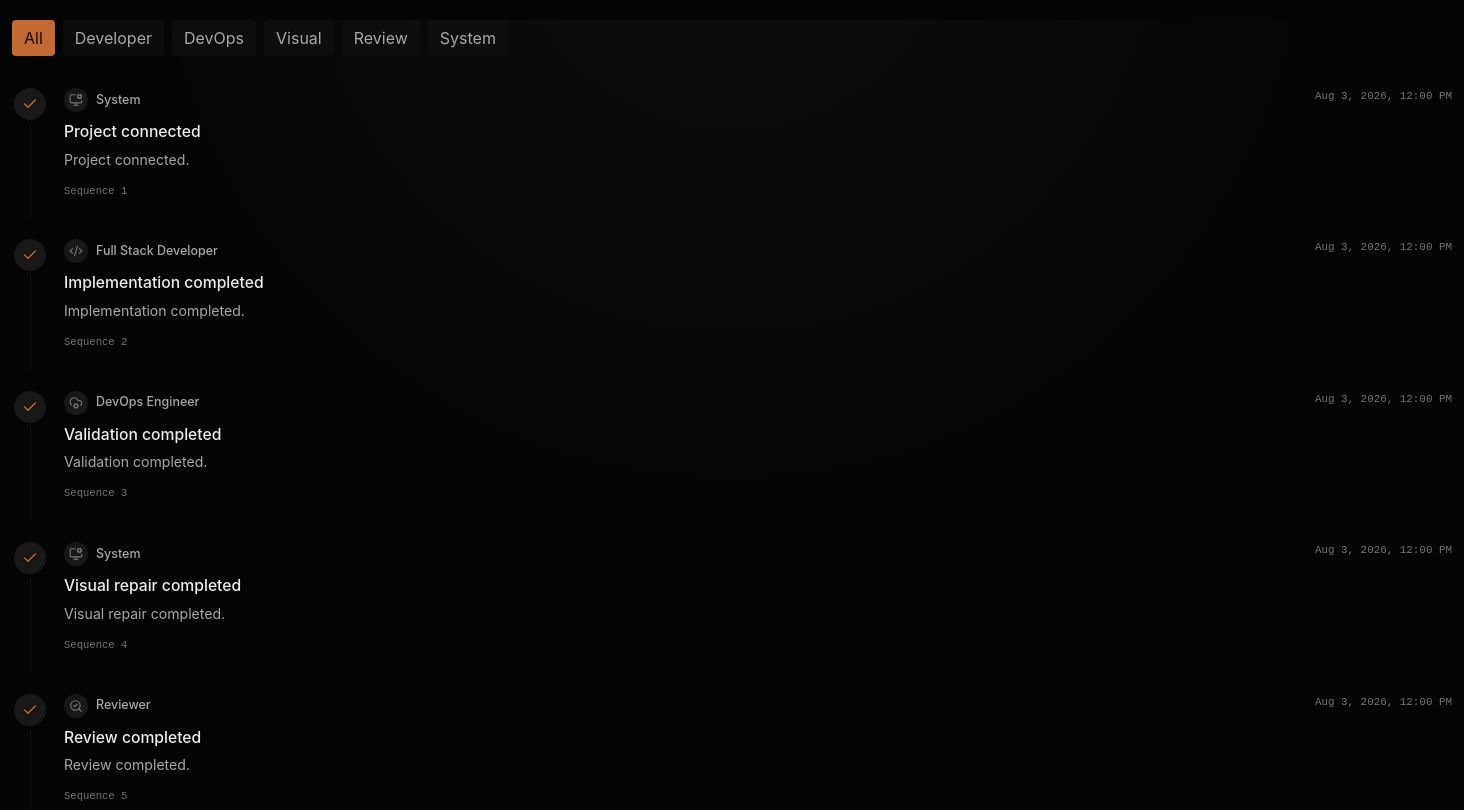
Scenario: activity timeline filters › switching filters updates visible events correctly
Click the button "Developer": (113, 38) [63,20,164,56]
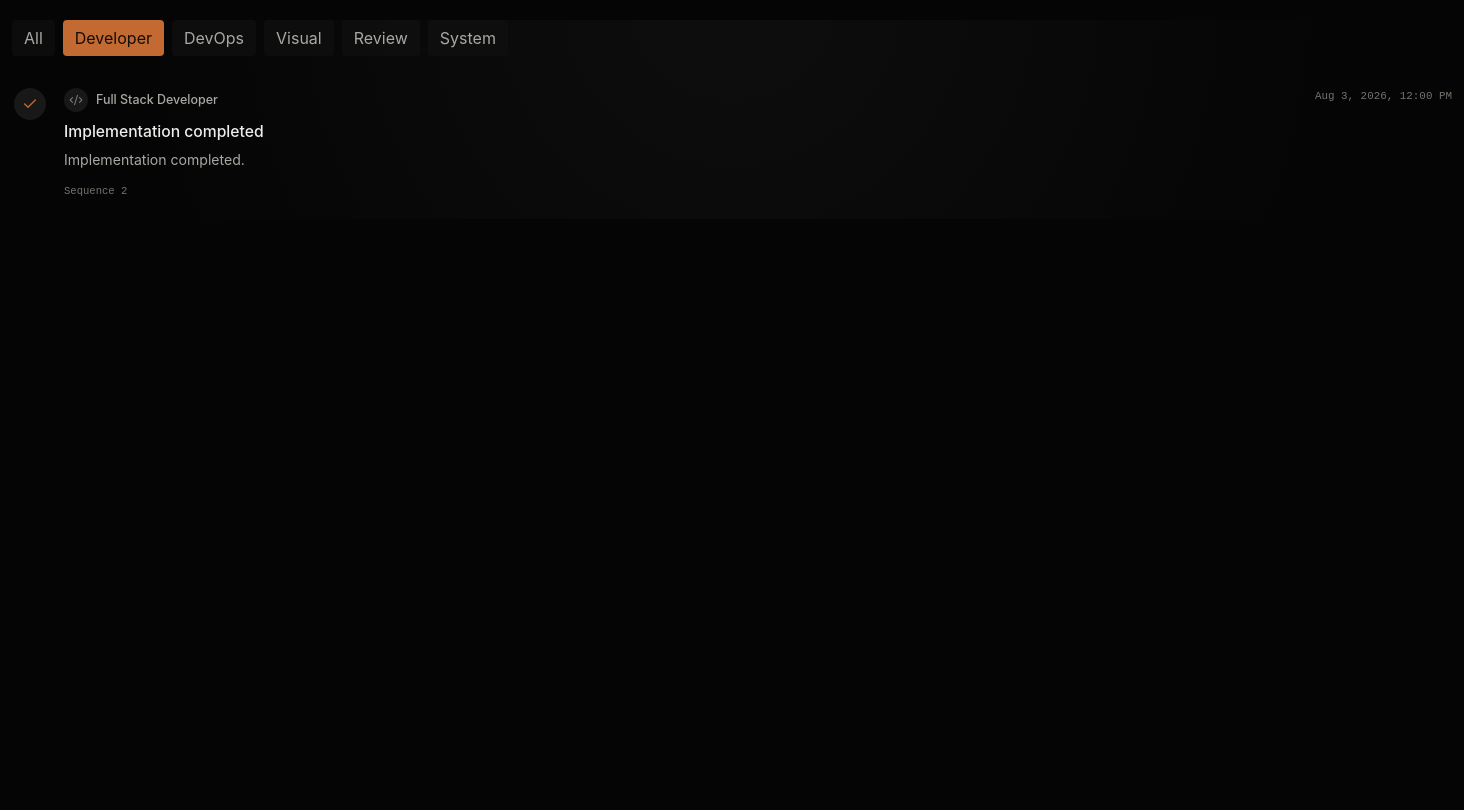
Click the button "Visual": (299, 38) [264,20,334,56]
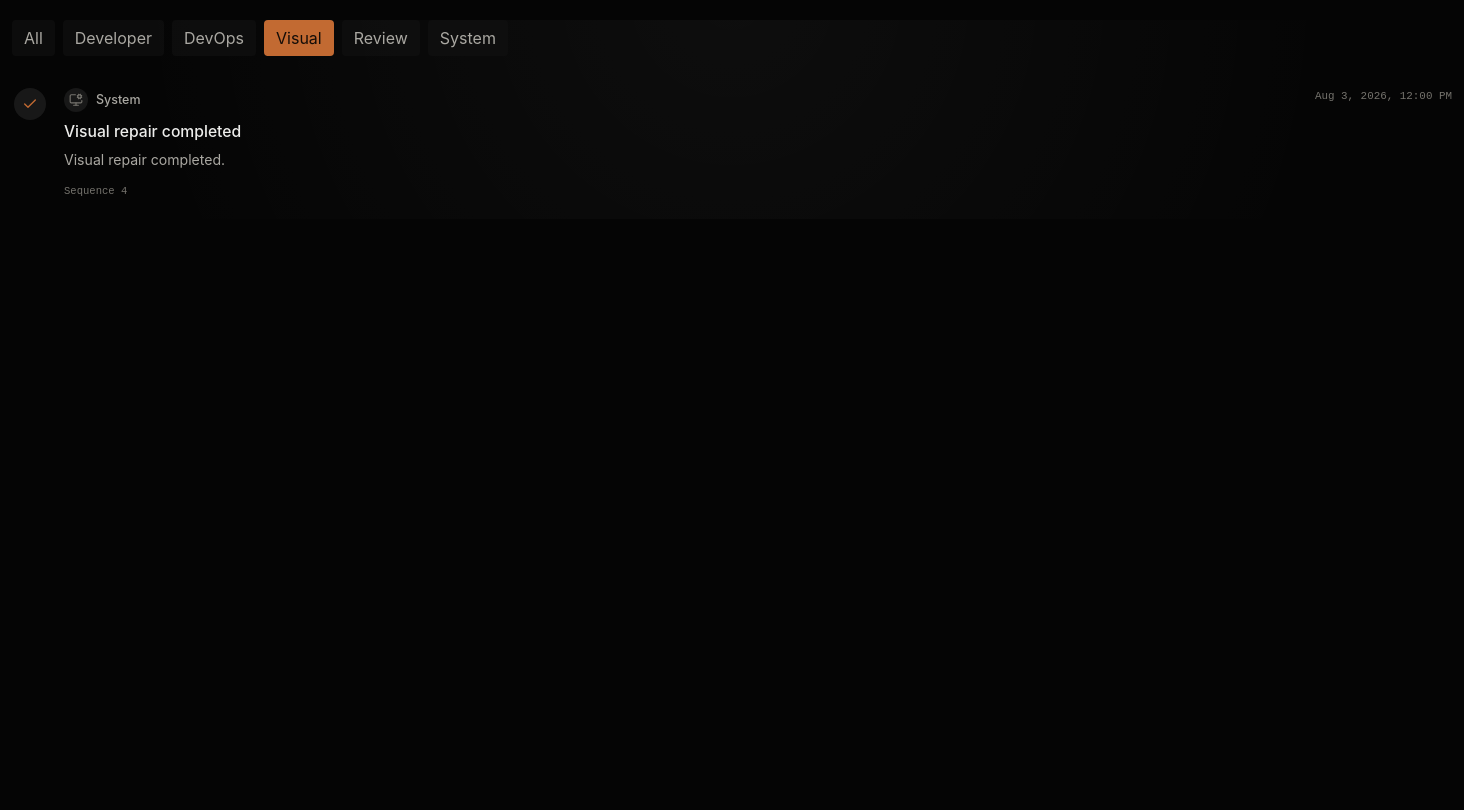
Click the button "All": (33, 38) [12,20,55,56]
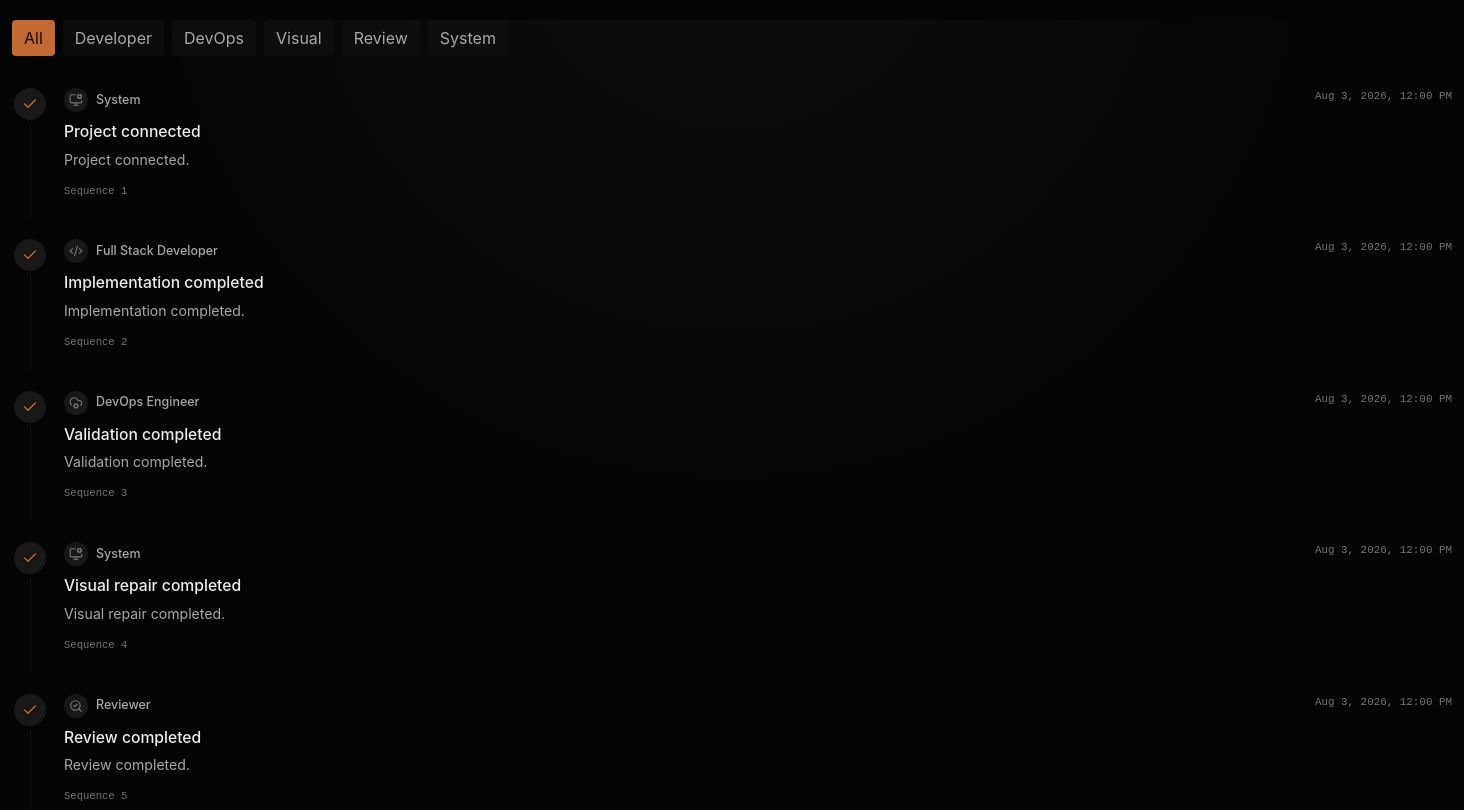
Check: the number of list items is 6
